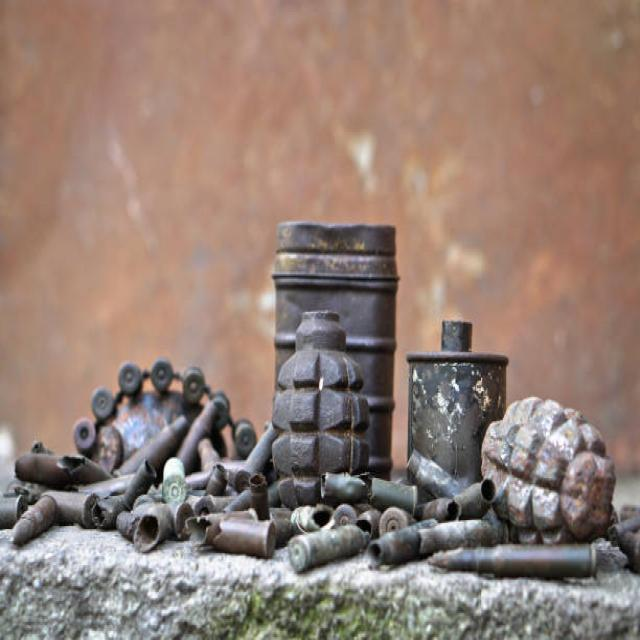grenade: (270, 308, 375, 516), (477, 396, 618, 548)
